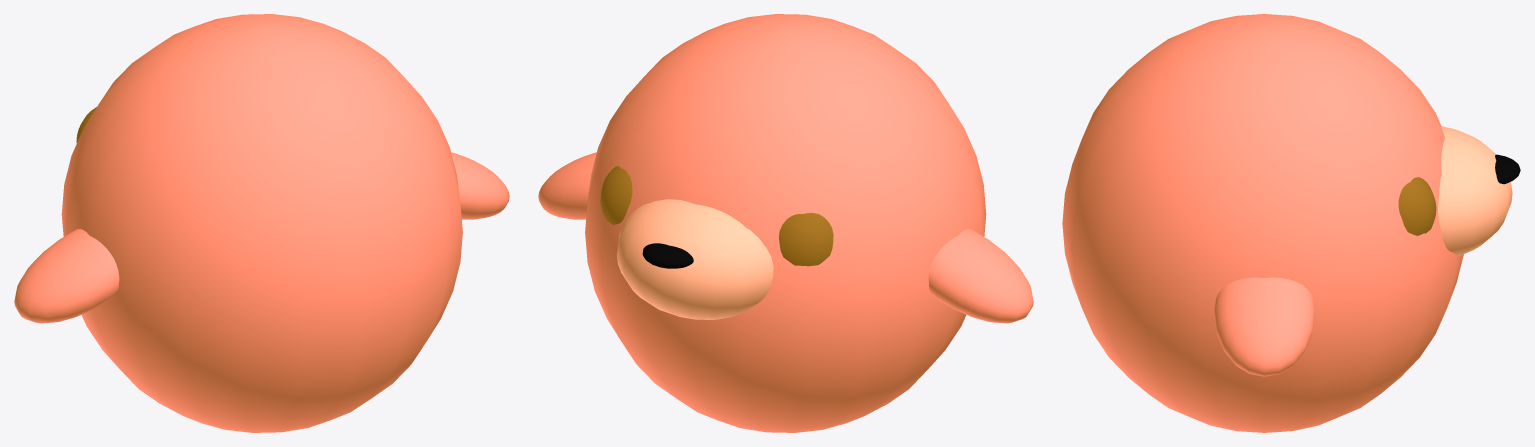
Rendered from sealbumper10FBX.fbx.
3 views of the same model, side by side, from view 1: azimuth 30°, elevation 25°; view 2: azimuth 150°, elevation 25°; view 3: azimuth 270°, elevation 25° (orthographic).
Parts seen in each view (by area): view 1: pSphere8; view 2: pSphere8; view 3: pSphere8.
Boxes of the visible parts, x1,y1,x2,y2 form: pSphere8: (14, 14, 509, 432); pSphere8: (538, 14, 1033, 432); pSphere8: (1062, 14, 1520, 432).
Bounding box in the file's own units: 2.78 × 2.09 × 2.27.
